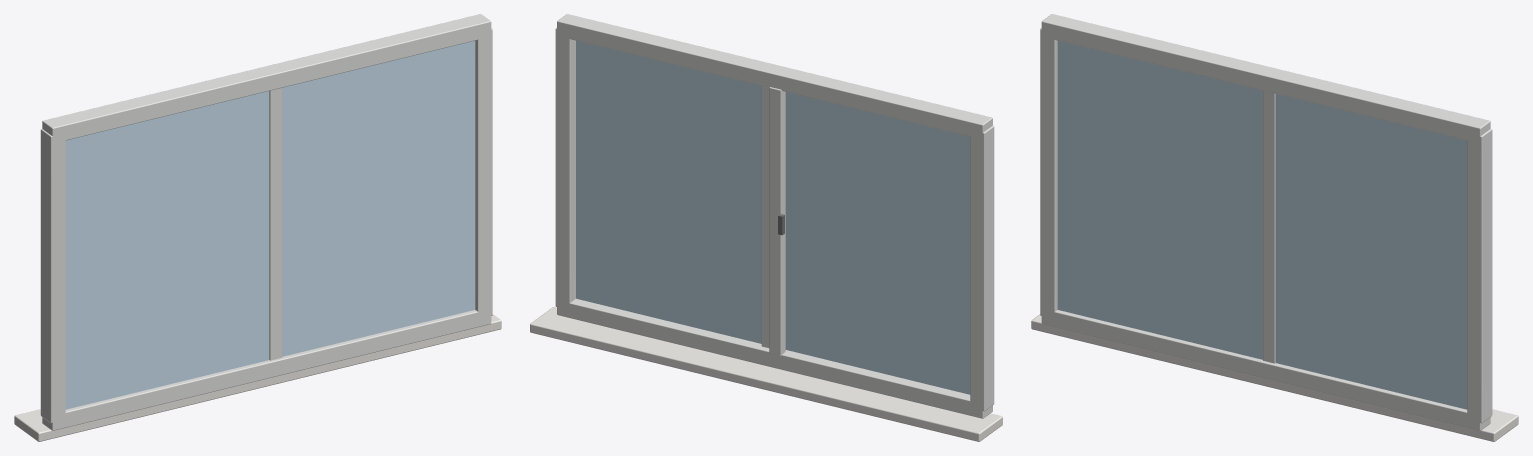
Rendered from mueble.ventana.fbx.
3 views of the same model, side by side, from view 1: azimuth 30°, elevation 25°; view 2: azimuth 150°, elevation 25°; view 3: azimuth 330°, elevation 25° (orthographic). The views are drawn at different scales.
Parts seen in each view (by area): view 1: Vidrio, Marco horizontal.001, Marco horizontal, Marco vertical.001, Marco vertical, Alfeizar, Hoja fija; view 2: Vidrio, Alfeizar, Marco horizontal.001, Marco horizontal, Marco vertical.001, Marco vertical, Hoja que corre, Hoja fija; view 3: Vidrio, Marco horizontal.001, Marco horizontal, Marco vertical, Marco vertical.001, Alfeizar, Hoja fija.
Part boxes in pixels (x1,y1,x2,y2): Vidrio: (65,41,475,409); Marco horizontal.001: (42,14,491,142); Marco horizontal: (42,309,491,430); Marco vertical.001: (40,129,65,423); Marco vertical: (475,28,492,317); Alfeizar: (14,314,501,441); Hoja fija: (269,88,282,360); Vidrio: (576,40,970,394); Alfeizar: (530,307,1002,441); Marco horizontal.001: (557,14,992,138); Marco horizontal: (557,298,992,418); Marco vertical.001: (970,125,994,411); Marco vertical: (555,28,575,309); Hoja que corre: (769,87,785,356); Hoja fija: (761,86,769,347); Vidrio: (1057,41,1467,409); Marco horizontal.001: (1041,14,1490,142); Marco horizontal: (1041,309,1490,430); Marco vertical: (1467,129,1492,423); Marco vertical.001: (1040,28,1057,317); Alfeizar: (1031,314,1518,441); Hoja fija: (1263,91,1275,363).
Bounding box in the file's own units: 1.52 × 0.98 × 0.15.
